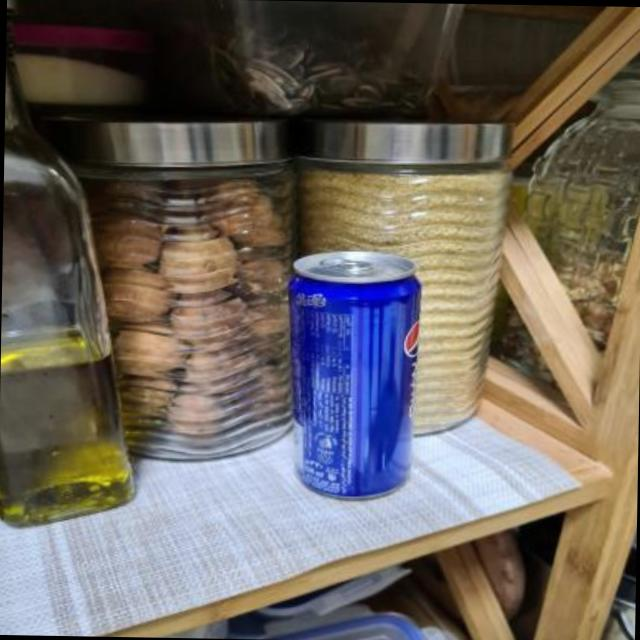metal: (289, 251, 418, 495)
